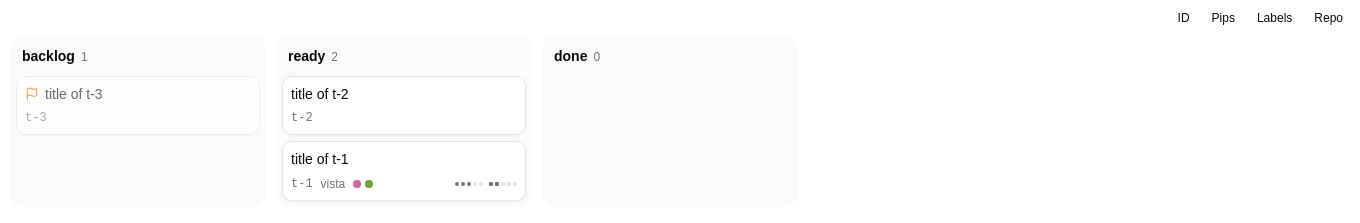
Scenario: board (composed) › display options toggle card fields off and back on
Expected: the element "ready" is shown, x1=276 y1=36 x2=532 y2=206
Click the button "ID".
click(1184, 18)  # box x1=1169 y1=6 x2=1199 y2=30
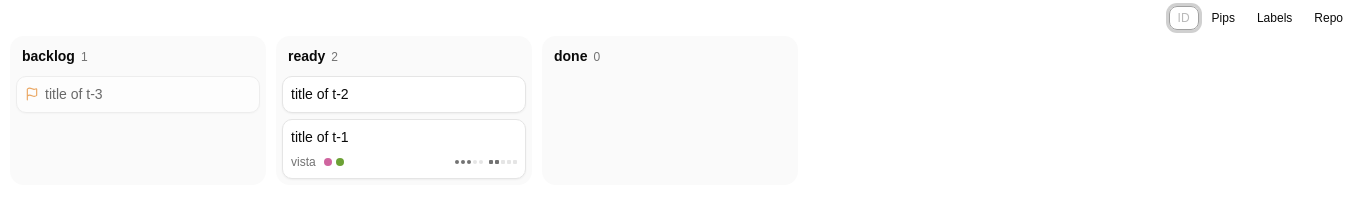
Expected: the text "title of t-1" is shown, x1=291 y1=128 x2=349 y2=148
Click the button "ID".
click(1184, 18)  # box x1=1169 y1=6 x2=1199 y2=30
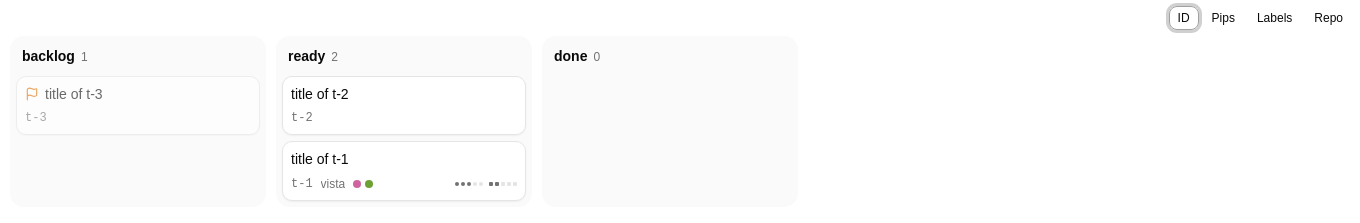
Result: the text "t-1" is shown at x1=291 y1=176 x2=313 y2=192
